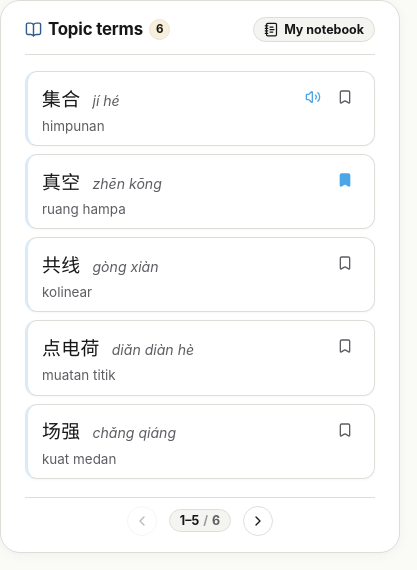
Test: renders pagination for more than 5 terms and allows navigating pages
Expected: the text "集合" is shown, [42,84,80,110]
Expected: the text "场强" is shown, [42,416,80,443]
# Click next page
Click the button named "Next page": (258, 521) [243,506,273,536]
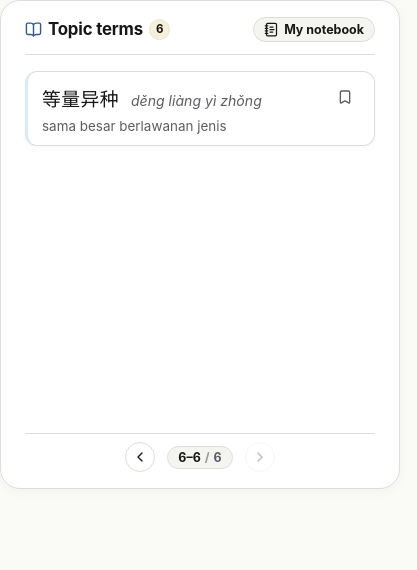
Expected: the text "等量异种" is shown, [42,84,119,110]
Expected: the button "集合" is gone
Expected: the text "6–6" is shown, [178,450,201,464]
